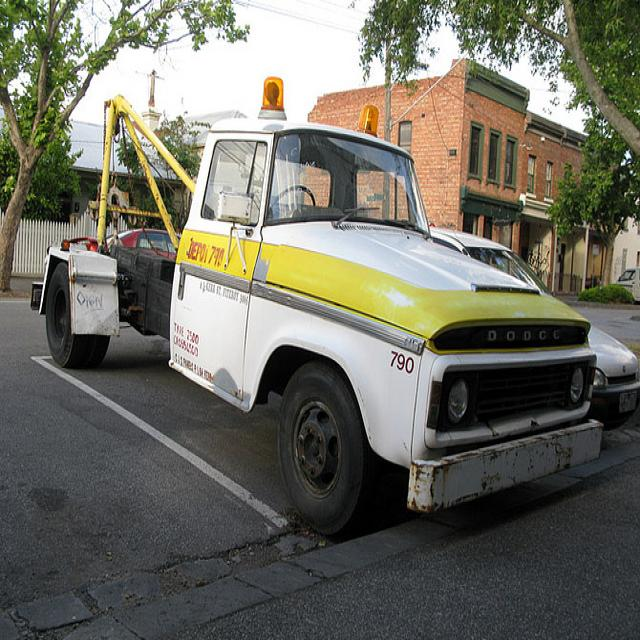Vehicle: (35, 77, 613, 540), (589, 326, 640, 432), (105, 226, 182, 257), (615, 266, 640, 301)
